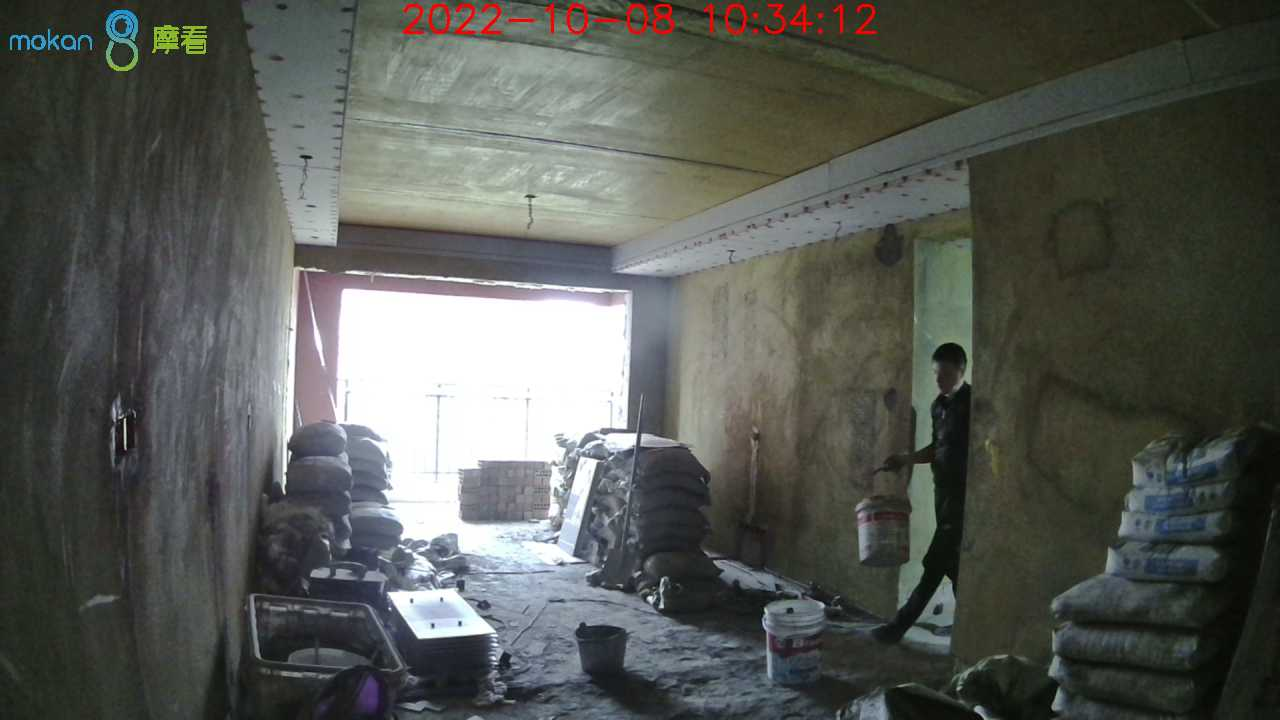people: (869, 343, 974, 647)
window: (340, 287, 642, 466)
